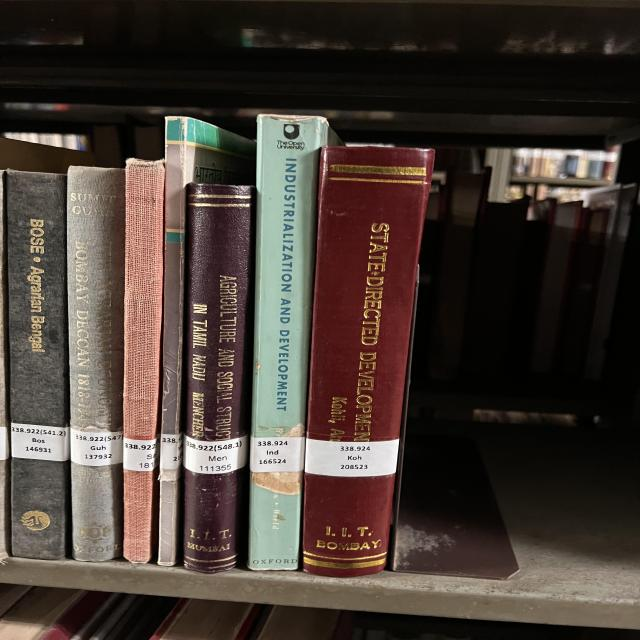Book: (303, 146, 433, 578), (158, 116, 257, 566), (248, 115, 340, 570), (183, 184, 255, 572), (5, 170, 70, 559), (67, 166, 125, 561), (123, 159, 165, 562)
Label: (305, 439, 398, 478), (183, 435, 248, 474), (12, 424, 70, 461), (70, 428, 123, 466), (250, 436, 305, 472), (123, 438, 157, 471), (160, 434, 182, 469)
